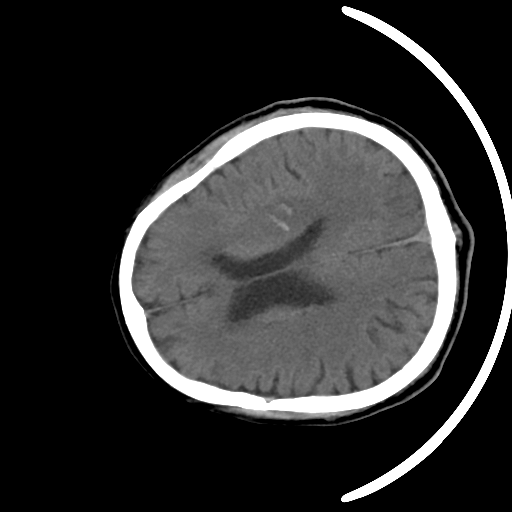a: (239, 184, 325, 246)
